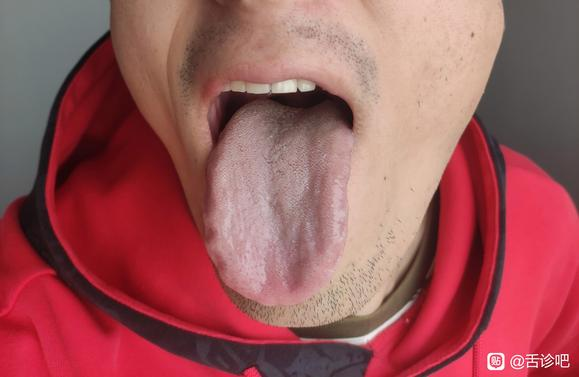baitaishe: (201, 98, 352, 306)
chihenshe: (202, 174, 228, 285)
shenquao: (261, 99, 331, 116)
